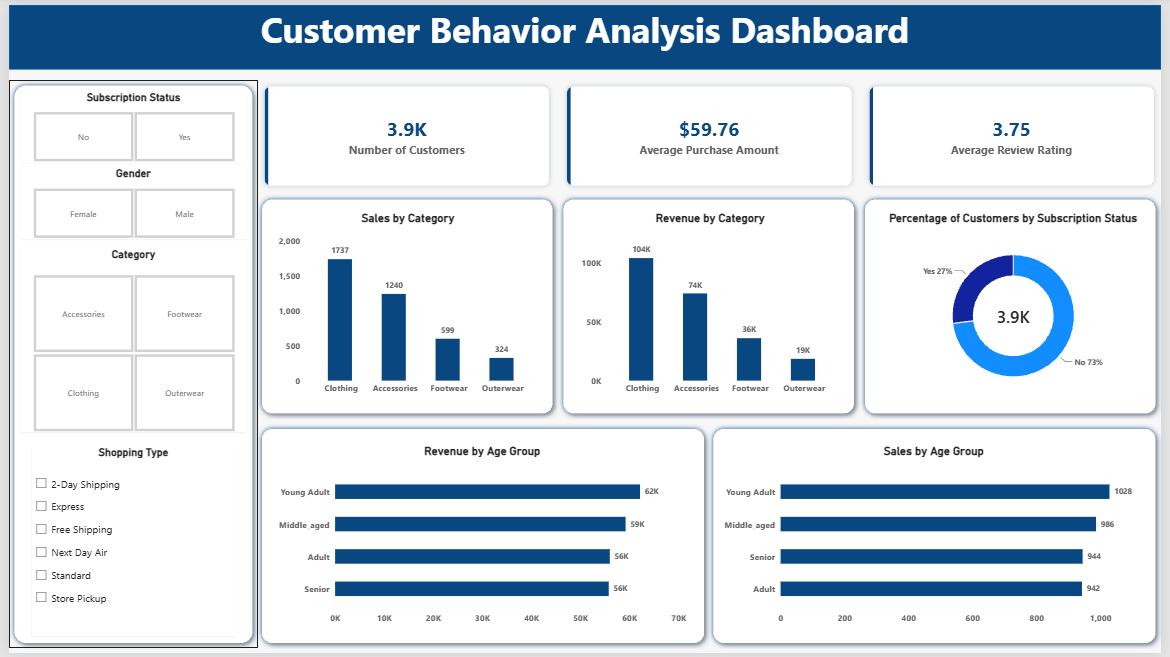

The dashboard page shown, as its layout file describes it:
{"tool":"powerbi","page":{"name":"Page 1","canvas":[1920,1080],"ordinal":0},"visuals":[{"type":"shape","box":[0,0,1920,107.5],"z":0,"group":"g1"},{"type":"group","id":"g1","title":"Background","box":[0,0,1920,1072.5],"z":0},{"type":"cardVisual","fields":{"Data":["public customer.Number of Customers","public customer.Average Purchase Amount","public customer.Average Review Rating"]},"box":[414.8,124.4,1505.4,187.9],"z":1000},{"type":"shape","box":[412.5,315,502.5,375],"z":1000,"group":"g1"},{"type":"shape","box":[915,315,502.5,375],"z":2000,"group":"g1"},{"type":"donutChart","title":"Percentage of Customers by Subscription Status","fields":{"Category":["public customer.subscription_status"],"Y":["CountNonNull(public customer.customer_id)"]},"box":[1440,330,467.5,340],"z":2000},{"type":"shape","box":[1417.5,315,502.5,375],"z":3000,"group":"g1"},{"type":"clusteredColumnChart","title":"Revenue by Category","fields":{"Category":["public customer.category"],"Y":["Sum(public customer.purchase_amount)"]},"box":[937.5,330,462.5,340],"z":3000},{"type":"clusteredColumnChart","title":"Sales by Category","fields":{"Category":["public customer.category"],"Y":["CountNonNull(public customer.customer_id)"]},"box":[432.5,330,465,340],"z":4000},{"type":"shape","box":[412.5,697.5,755,375],"z":4000,"group":"g1"},{"type":"shape","box":[1165,697.5,755,375],"z":5000,"group":"g1"},{"type":"clusteredBarChart","title":"Revenue by Age Group","fields":{"Category":["public customer.age_group"],"Y":["Sum(public customer.purchase_amount)"]},"box":[432.5,717.5,712.5,335],"z":5000},{"type":"shape","box":[0,125,415,947.5],"z":6000,"group":"g1"},{"type":"clusteredBarChart","title":"Sales by Age Group","fields":{"Category":["public customer.age_group"],"Y":["CountNonNull(public customer.customer_id)"]},"box":[1175,717.5,732.5,335],"z":6000},{"type":"textbox","box":[0,0,1920,107.5],"z":7000},{"type":"slicer","title":"Subscription Status","fields":{"Values":["public customer.subscription_status"]},"box":[20,142.5,375,120],"z":8000},{"type":"slicer","title":"Gender","fields":{"Values":["public customer.gender"]},"box":[20,270,375,120],"z":9000},{"type":"slicer","title":"Category","fields":{"Values":["public customer.category"]},"box":[20,405,375,307.5],"z":10000},{"type":"slicer","title":"Shopping Type","fields":{"Values":["public customer.shipping_type"]},"box":[40,735,337.5,317.5],"z":11000}]}

Visuals, with their boxes in screenshot pixels (x1, y1, x2, y2), scaled from the page's 1920x1080 canvas onto the 1170x657 screenshot:
shape: (x1=0, y1=0, x2=1169, y2=65)
"Background" group: (x1=0, y1=0, x2=1169, y2=652)
cardVisual - public customer.Number of Customers x public customer.Average Purchase Amount: (x1=253, y1=76, x2=1169, y2=190)
shape: (x1=251, y1=192, x2=558, y2=420)
shape: (x1=558, y1=192, x2=864, y2=420)
"Percentage of Customers by Subscription Status" donutChart: (x1=878, y1=201, x2=1162, y2=408)
shape: (x1=864, y1=192, x2=1169, y2=420)
"Revenue by Category" clusteredColumnChart: (x1=571, y1=201, x2=853, y2=408)
"Sales by Category" clusteredColumnChart: (x1=264, y1=201, x2=547, y2=408)
shape: (x1=251, y1=424, x2=711, y2=652)
shape: (x1=710, y1=424, x2=1169, y2=652)
"Revenue by Age Group" clusteredBarChart: (x1=264, y1=436, x2=698, y2=640)
shape: (x1=0, y1=76, x2=253, y2=652)
"Sales by Age Group" clusteredBarChart: (x1=716, y1=436, x2=1162, y2=640)
textbox: (x1=0, y1=0, x2=1169, y2=65)
"Subscription Status" slicer: (x1=12, y1=87, x2=241, y2=160)
"Gender" slicer: (x1=12, y1=164, x2=241, y2=237)
"Category" slicer: (x1=12, y1=246, x2=241, y2=433)
"Shopping Type" slicer: (x1=24, y1=447, x2=230, y2=640)
